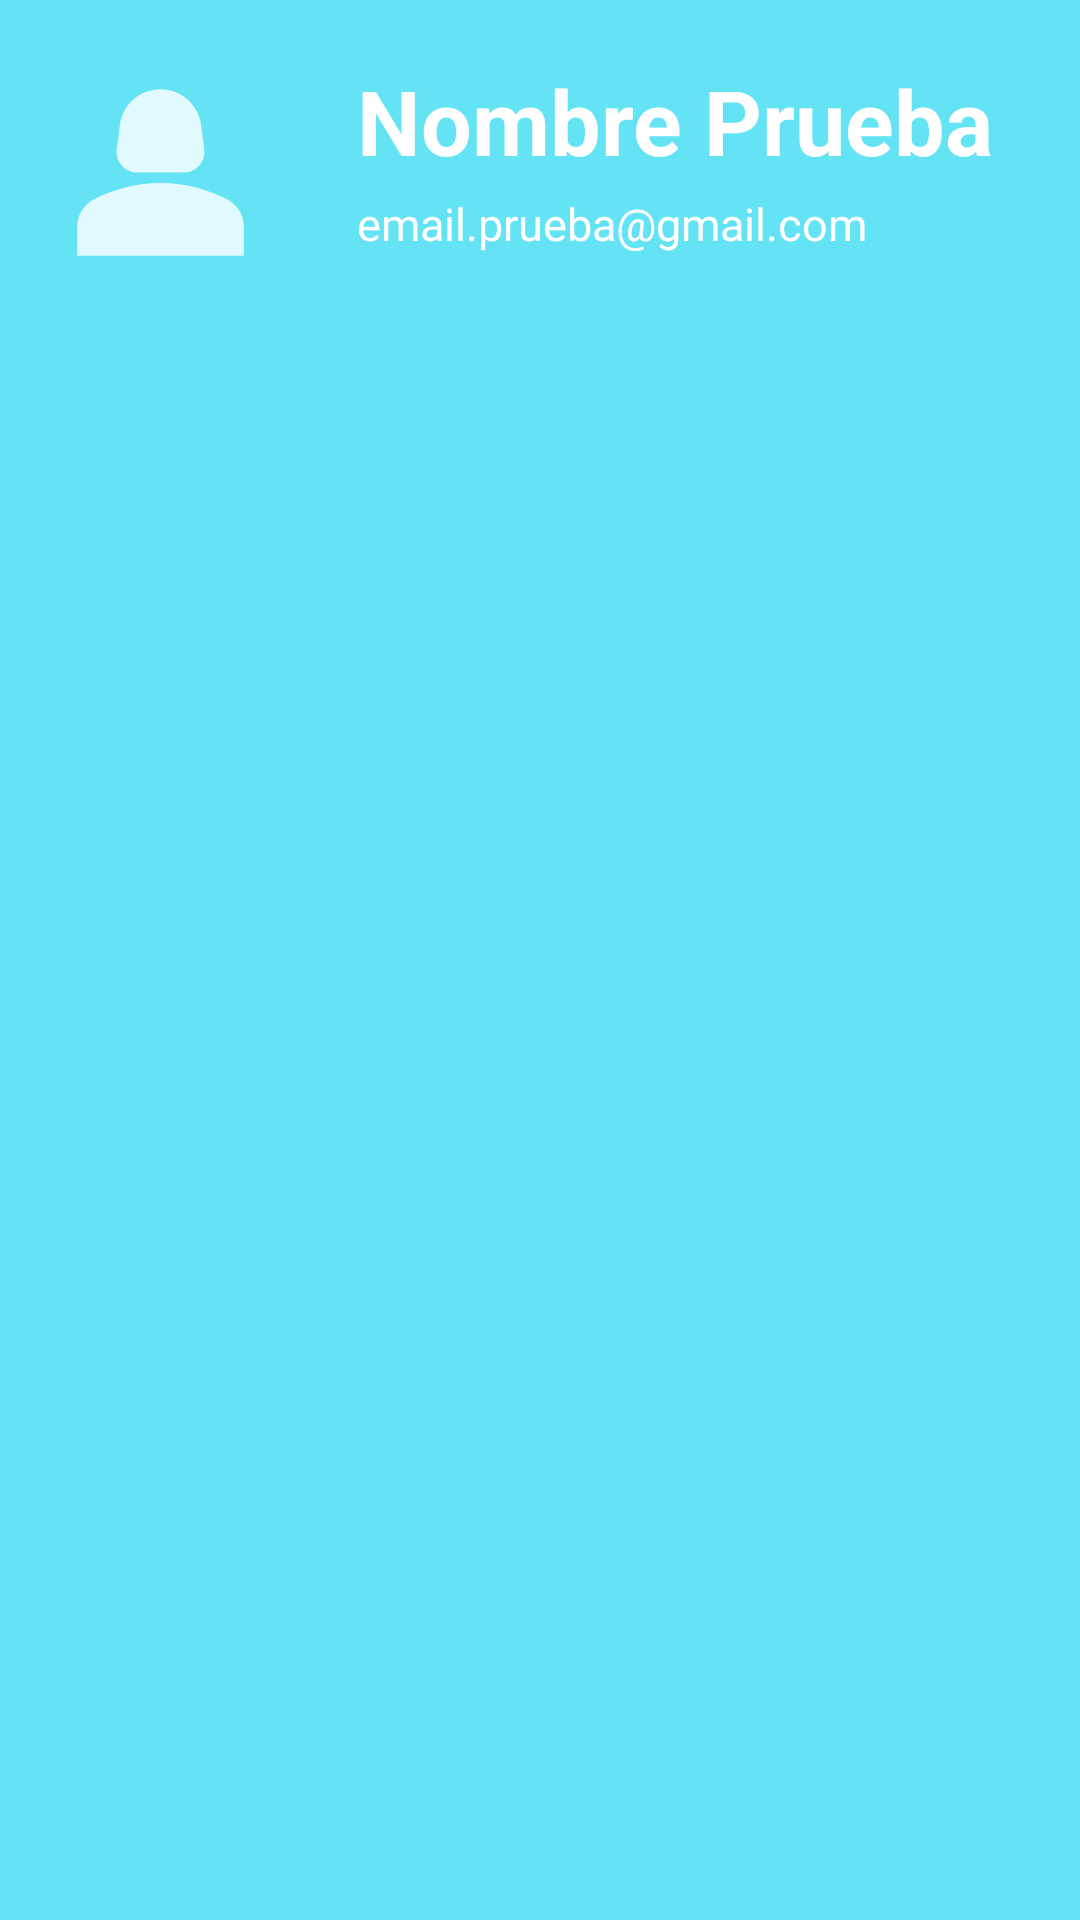

Screen size 1080px×1920px. Icon name, then its center in pixels as (x=x, y=y):
personal info: (x=160, y=172)
